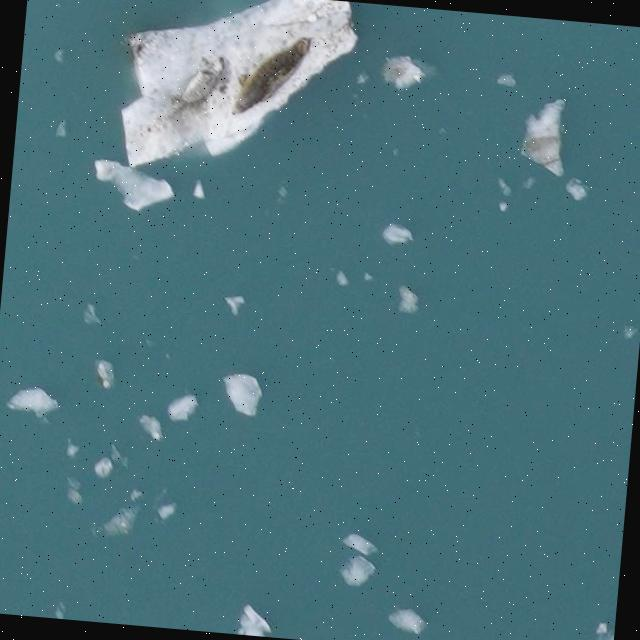seal: (214, 35, 327, 119), (175, 47, 226, 113)
